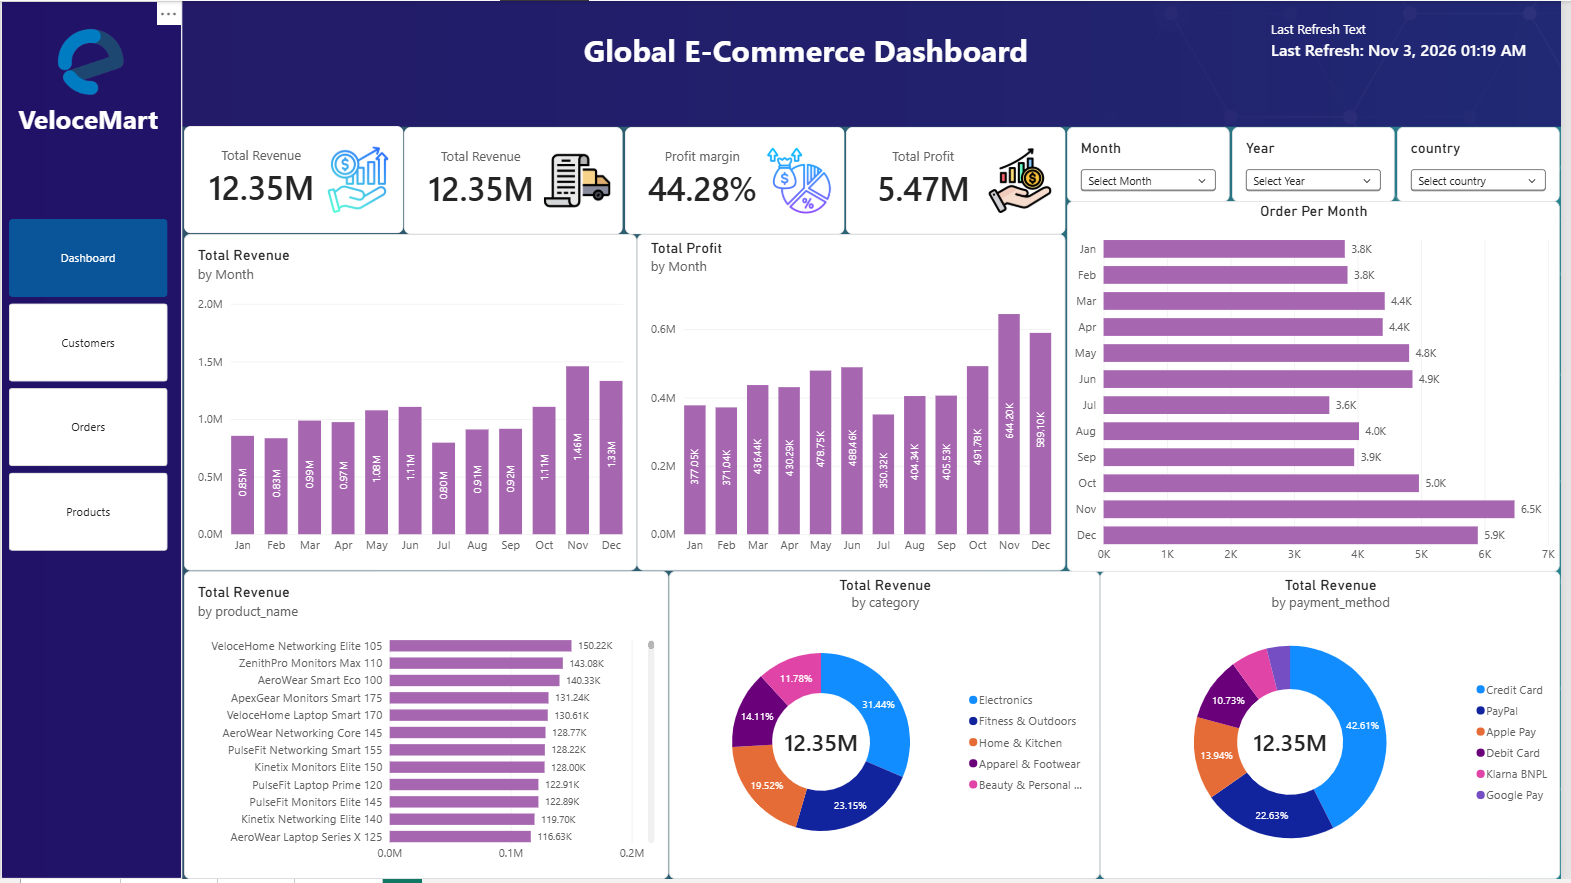

Layout of this report page (visuals, bound fields, positions):
{"tool":"powerbi","page":{"name":"Dashboard","canvas":[1920,1080],"ordinal":0},"visuals":[{"type":"shape","box":[223.2,0,1696.8,154.7],"z":0},{"type":"shape","box":[0,0,223.2,1079.6],"z":1000},{"type":"image","box":[46.7,32.1,131.3,89],"z":2000},{"type":"textbox","box":[19,122.6,186.7,62.7],"z":3000},{"type":"textbox","box":[697.4,35,585,72.9],"z":4000},{"type":"cardVisual","fields":{"Data":["Orders.Total Revenue"]},"box":[225,154,270,132.8],"z":5000},{"type":"cardVisual","fields":{"Data":["Orders.Total Revenue"]},"box":[496,154.7,269.9,132.8],"z":6000},{"type":"cardVisual","fields":{"Data":["Orders.Profit margin"]},"box":[768,154.7,270,132.8],"z":7000},{"type":"cardVisual","fields":{"Data":["Orders.Total Profit"]},"box":[1040,154.7,270,132.8],"z":8000},{"type":"listSlicer","fields":{"Values":["Calender.Month"]},"box":[1311.6,154.7,199.9,91.9],"z":9000},{"type":"listSlicer","fields":{"Values":["Calender.Year"]},"box":[1514.4,154.7,199.9,91.9],"z":10000},{"type":"listSlicer","fields":{"Values":["Customers.country"]},"box":[1717.2,154.7,199.9,91.9],"z":11000},{"type":"cardVisual","fields":{"Data":["Orders.Last Refresh Text"]},"box":[1546.5,0,373.5,97.8],"z":12000},{"type":"columnChart","fields":{"Category":["Calender.Month"],"Y":["Orders.Total Profit"]},"box":[782.9,287.1,527.1,414.3],"z":13000},{"type":"columnChart","fields":{"Category":["Calender.Month"],"Y":["Orders.Total Revenue"]},"box":[225.7,287.1,557.1,414.3],"z":14000},{"type":"clusteredBarChart","title":"Order Per Month","fields":{"Category":["Calender.Month"],"Y":["CountNonNull(Orders.product_id)"]},"box":[1311.4,245.7,605.7,455.7],"z":15000},{"type":"donutChart","fields":{"Category":["Products.category"],"Y":["Orders.Total Revenue"]},"box":[821.4,701.4,530,378.6],"z":16000},{"type":"donutChart","fields":{"Category":["Orders.payment_method"],"Y":["Orders.Total Revenue"]},"box":[1351.4,701.4,565.7,378.6],"z":17000},{"type":"clusteredBarChart","fields":{"Category":["Products.product_name"],"Y":["Orders.Total Revenue"]},"box":[225.7,701.4,595.7,378.6],"z":18000},{"type":"pageNavigator","box":[10,268.6,195.7,410],"z":19000}]}

Visuals, with their boxes on the page's 1920x1080 design canvas (x1, y1, x2, y2). These are canvas units, not pixel positions in the 1571x883 screenshot, which may show the page scaled, cropped or inside an application window:
shape: bbox(223, 0, 1920, 155)
shape: bbox(0, 0, 223, 1080)
image: bbox(47, 32, 178, 121)
textbox: bbox(19, 123, 206, 185)
textbox: bbox(697, 35, 1282, 108)
cardVisual - Orders.Total Revenue: bbox(225, 154, 495, 287)
cardVisual - Orders.Total Revenue: bbox(496, 155, 766, 288)
cardVisual - Orders.Profit margin: bbox(768, 155, 1038, 288)
cardVisual - Orders.Total Profit: bbox(1040, 155, 1310, 288)
listSlicer - Calender.Month: bbox(1312, 155, 1512, 247)
listSlicer - Calender.Year: bbox(1514, 155, 1714, 247)
listSlicer - Customers.country: bbox(1717, 155, 1917, 247)
cardVisual - Orders.Last Refresh Text: bbox(1546, 0, 1920, 98)
columnChart - Calender.Month x Orders.Total Profit: bbox(783, 287, 1310, 701)
columnChart - Calender.Month x Orders.Total Revenue: bbox(226, 287, 783, 701)
"Order Per Month" clusteredBarChart: bbox(1311, 246, 1917, 701)
donutChart - Products.category x Orders.Total Revenue: bbox(821, 701, 1351, 1080)
donutChart - Orders.payment_method x Orders.Total Revenue: bbox(1351, 701, 1917, 1080)
clusteredBarChart - Products.product_name x Orders.Total Revenue: bbox(226, 701, 821, 1080)
pageNavigator: bbox(10, 269, 206, 679)
